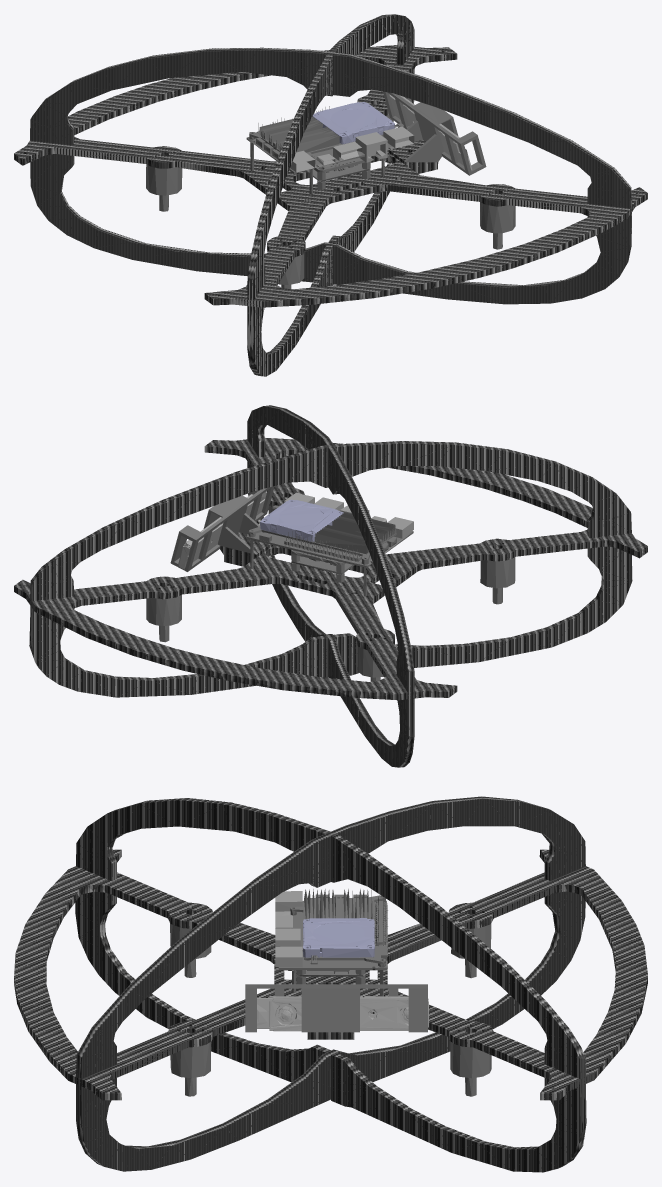
Rendered from rmf_obelix.dae.
3 views of the same model, one above another, from view 1: azimuth 30°, elevation 25°; view 2: azimuth 150°, elevation 25°; view 3: azimuth 270°, elevation 25° (orthographic). The views are drawn at different scales.
Parts seen in each view (by area): view 1: Rmf With Rings Foam, Rmf With Rings Foam.001, Rmf With Rings Foam.003, Rmf With Rings Foam.002, Rmf With Rings Foam.004; view 2: Rmf With Rings Foam, Rmf With Rings Foam.001, Rmf With Rings Foam.002, Rmf With Rings Foam.003, Rmf With Rings Foam.004; view 3: Rmf With Rings Foam, Rmf With Rings Foam.001, Rmf With Rings Foam.004, Rmf With Rings Foam.002, Rmf With Rings Foam.003.
Boxes of the visible parts, <box> form: Rmf With Rings Foam: <box>14,14,647,376</box>; Rmf With Rings Foam.001: <box>146,115,515,288</box>; Rmf With Rings Foam.003: <box>290,126,414,172</box>; Rmf With Rings Foam.002: <box>312,102,394,144</box>; Rmf With Rings Foam.004: <box>389,94,472,170</box>; Rmf With Rings Foam: <box>14,405,647,767</box>; Rmf With Rings Foam.001: <box>146,505,515,681</box>; Rmf With Rings Foam.002: <box>260,499,343,541</box>; Rmf With Rings Foam.003: <box>284,492,413,538</box>; Rmf With Rings Foam.004: <box>178,491,266,569</box>; Rmf With Rings Foam: <box>14,796,647,1172</box>; Rmf With Rings Foam.001: <box>170,923,491,1096</box>; Rmf With Rings Foam.004: <box>257,996,428,1031</box>; Rmf With Rings Foam.002: <box>303,918,374,957</box>; Rmf With Rings Foam.003: <box>275,891,302,967</box>.
Bounding box in the file's own units: 0.291 × 0.3201 × 0.1483.
5 materials, 1 textured.
